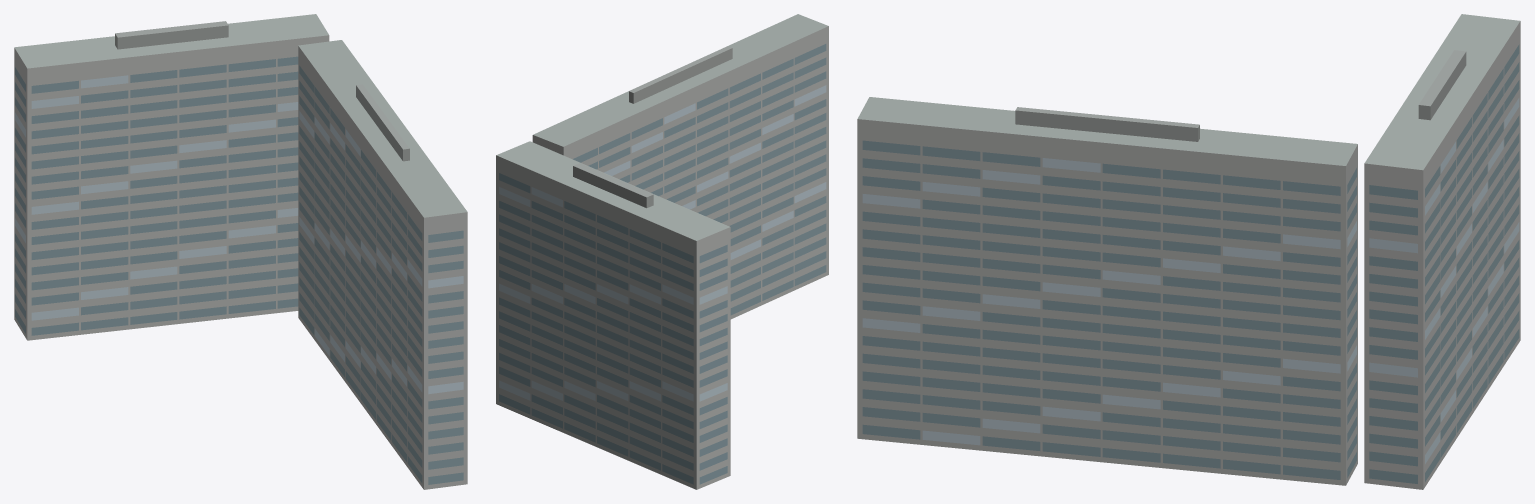
File: apt-a13790612.glb
3 renders of one model, left to right at view 1: azimuth 30°, elevation 25°; view 2: azimuth 150°, elevation 25°; view 3: azimuth 270°, elevation 25°, orthographic. The views are drawn at different scales.
Parts seen in each view (by area): view 1: apt-a13790612; view 2: apt-a13790612; view 3: apt-a13790612.
Boxes of the visible parts, x1,y1,x2,y2 form: apt-a13790612: [14, 14, 467, 489]; apt-a13790612: [496, 14, 828, 489]; apt-a13790612: [857, 14, 1520, 489].
Bounding box in the file's own units: 57.55 × 57.3 × 103.
